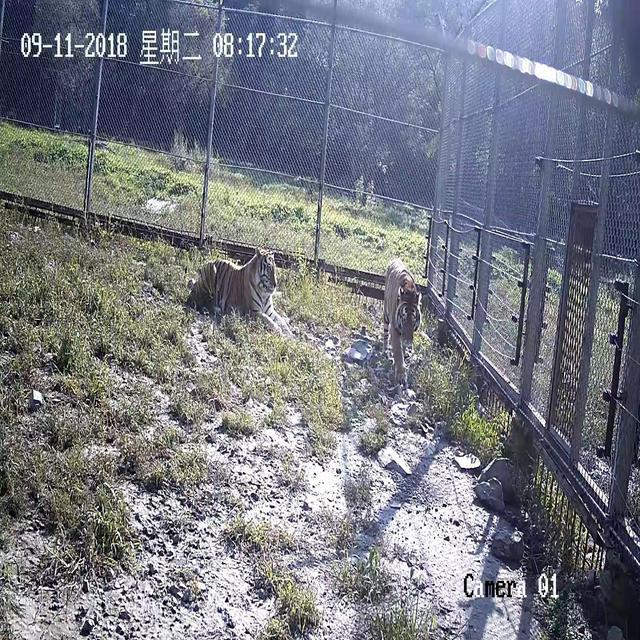tiger: (187, 245, 295, 340), (382, 257, 421, 387)
